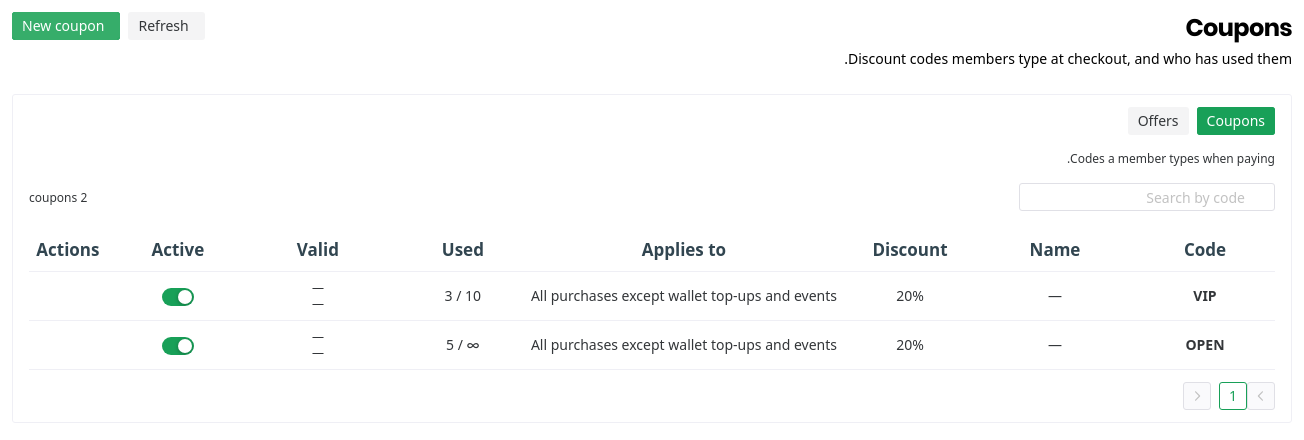
Test: couponsPage › lists typed coupons on the first tab and offers on the second
This screenshot has width=1304, height=440.
Click the button with test id "coupons-tab-offers". click: [1158, 121]
box: top-left (1128, 107), bottom-right (1189, 135)
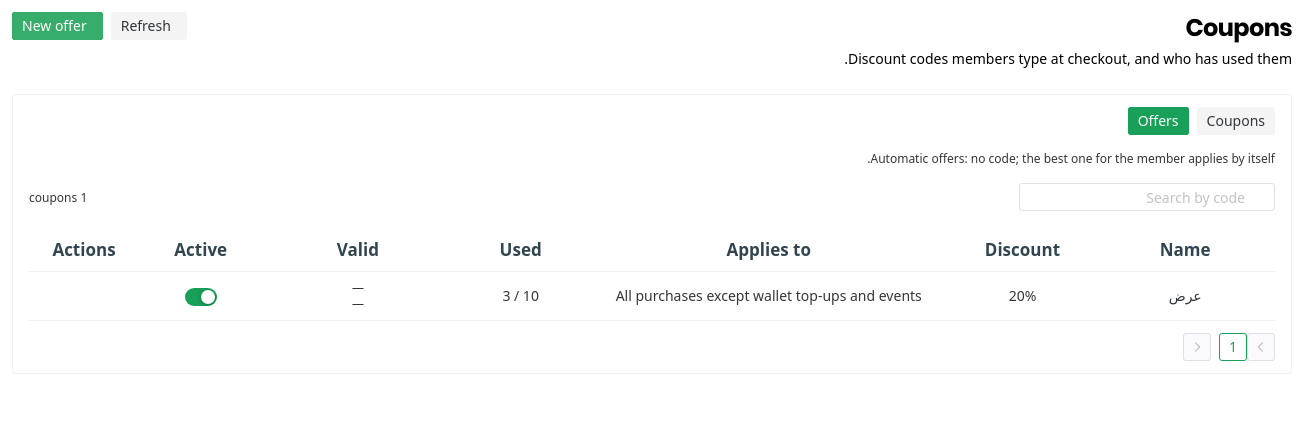
Check: the text "Code" is not shown
Check: the text "عرض" is shown, box top-left (1095, 272), bottom-right (1275, 321)
